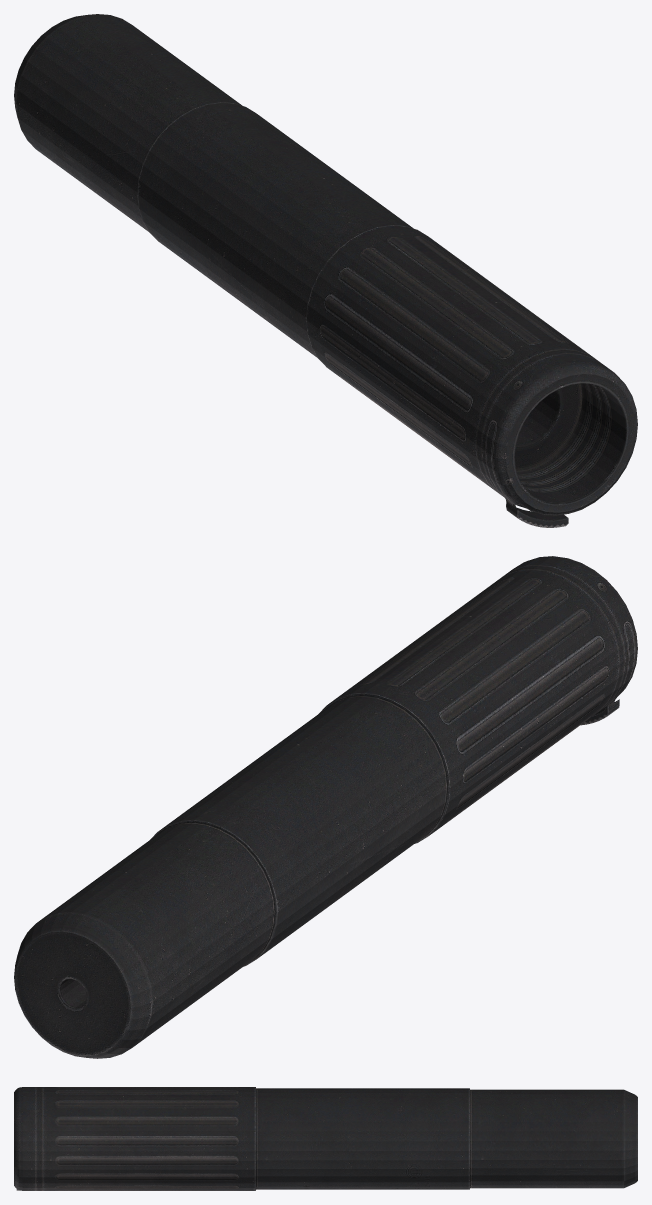
3 renders of one model, top to bottom at view 1: azimuth 30°, elevation 25°; view 2: azimuth 150°, elevation 25°; view 3: azimuth 270°, elevation 25°, orthographic. The views are drawn at different scales.
Parts seen in each view (by area): view 1: TW_5a34fe59c4a282000b1521a2_PZ_Import; view 2: TW_5a34fe59c4a282000b1521a2_PZ_Import; view 3: TW_5a34fe59c4a282000b1521a2_PZ_Import.
Part boxes in pixels (bbox=[...]): TW_5a34fe59c4a282000b1521a2_PZ_Import: bbox=[14, 14, 637, 527]; TW_5a34fe59c4a282000b1521a2_PZ_Import: bbox=[14, 556, 637, 1058]; TW_5a34fe59c4a282000b1521a2_PZ_Import: bbox=[14, 1087, 637, 1190].
Bounding box in the file's own units: 0.022 × 0.1321 × 0.0233.
1 material, 1 textured.
